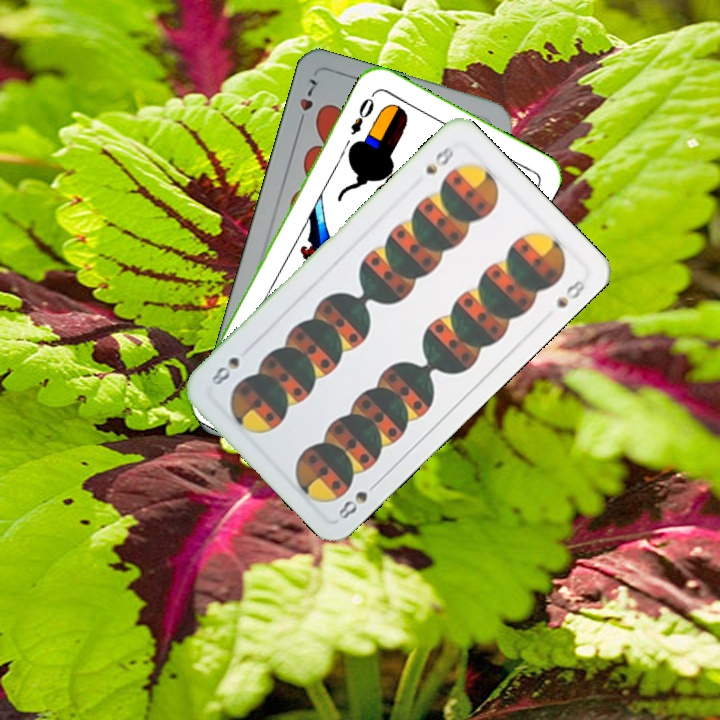EO: (347, 88, 378, 138)
H7: (293, 74, 320, 131)
S8: (334, 476, 382, 522), (421, 141, 457, 177)
